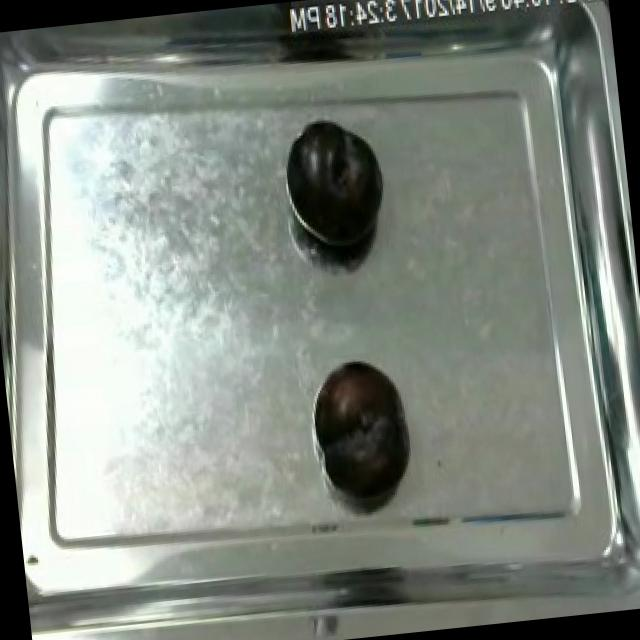Fruit: (281, 110, 391, 260), (310, 351, 416, 499)
